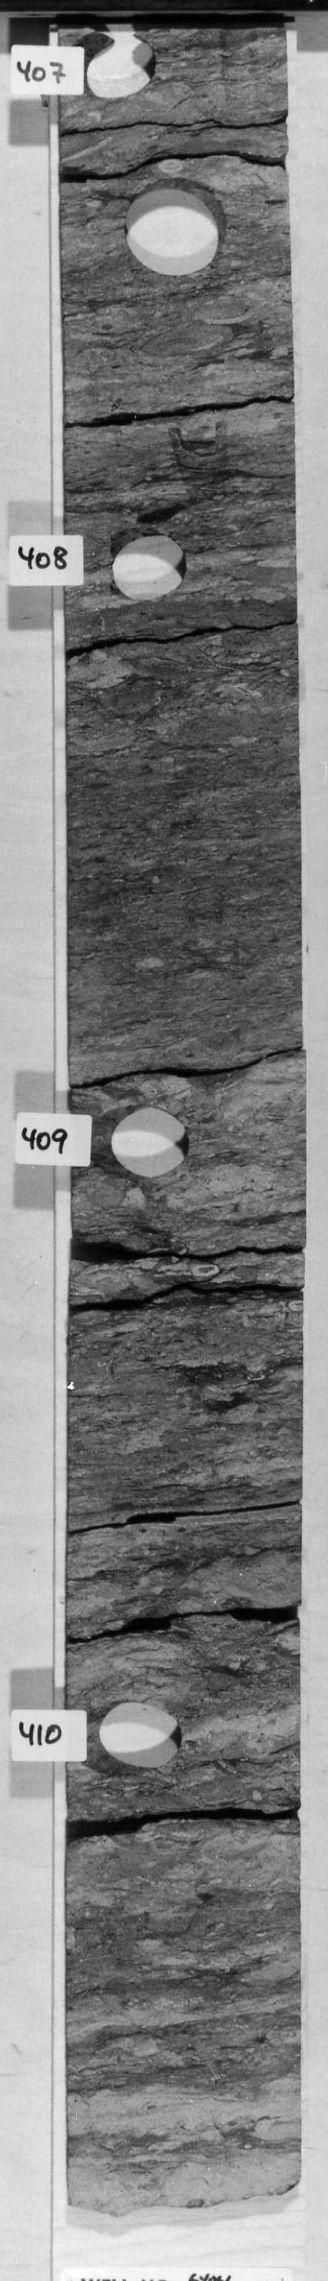hplug: (89, 1101, 198, 1187), (83, 1699, 187, 1773), (99, 528, 194, 607), (69, 32, 168, 106)
scal: (118, 172, 233, 282)
vplug: (165, 420, 239, 509)
